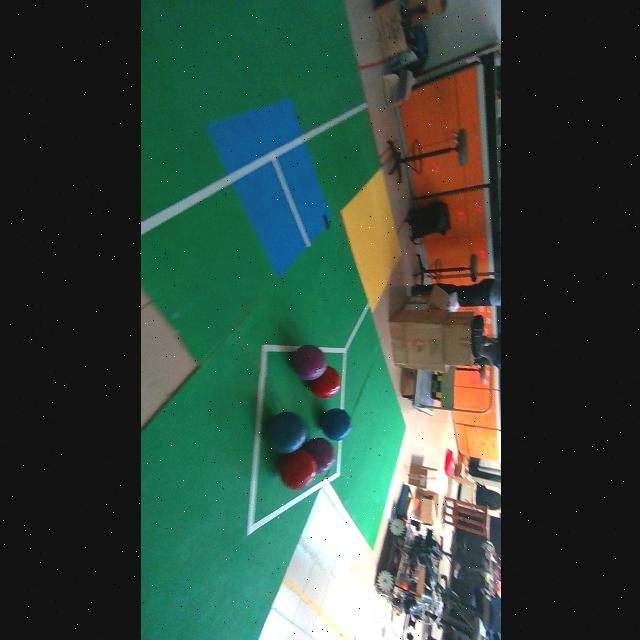B: (267, 412, 307, 453), (319, 410, 351, 440)
P: (290, 344, 325, 381), (302, 437, 334, 474)
R: (278, 449, 315, 490), (308, 367, 339, 398)
